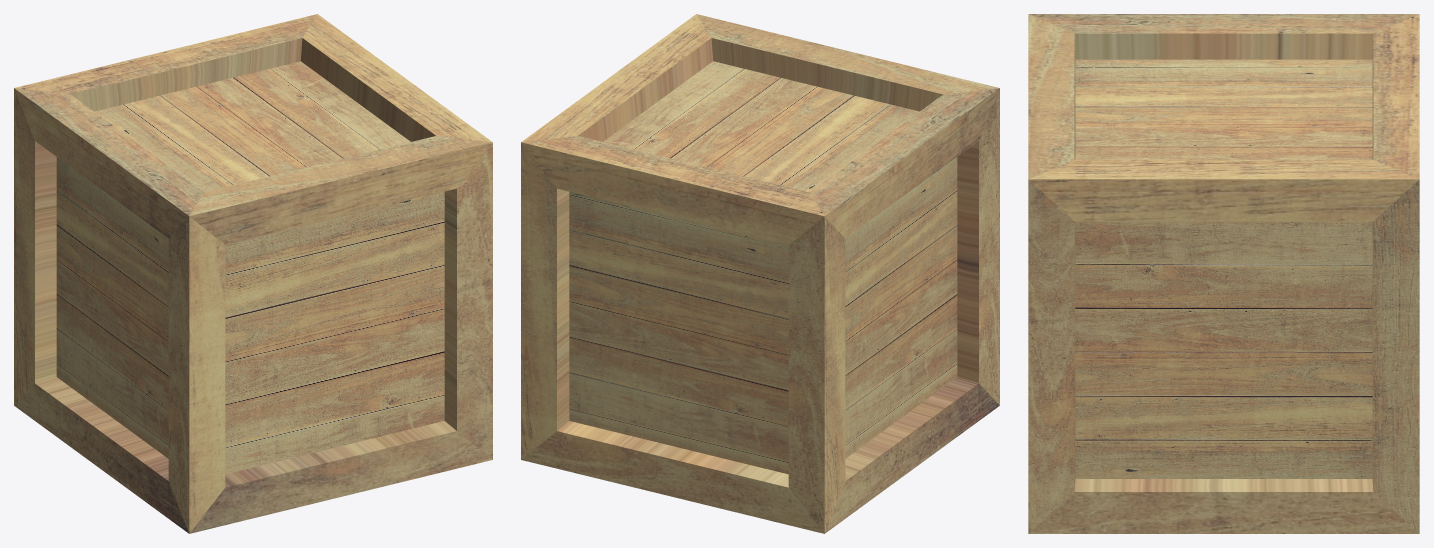
File: FeedCrate.fbx
3 views of the same model, side by side, from view 1: azimuth 30°, elevation 25°; view 2: azimuth 150°, elevation 25°; view 3: azimuth 270°, elevation 25° (orthographic). The views are drawn at different scales.
Visible parts, largest first — view 1: Crate; view 2: Crate; view 3: Crate.
Boxes of the visible parts, x1,y1,x2,y2 form: Crate: [14, 14, 492, 533]; Crate: [521, 14, 999, 533]; Crate: [1028, 14, 1419, 533].
Size of the model in its own units: 135 by 135 by 135.
